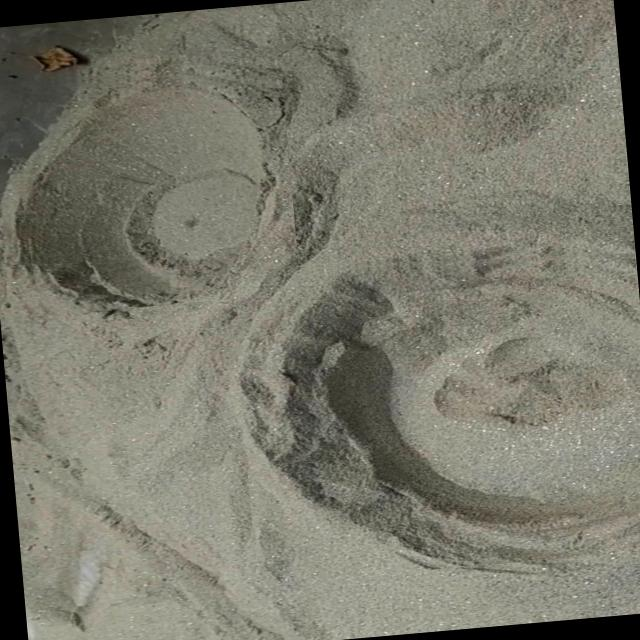C20: (238, 256, 640, 566), (22, 72, 287, 311)
